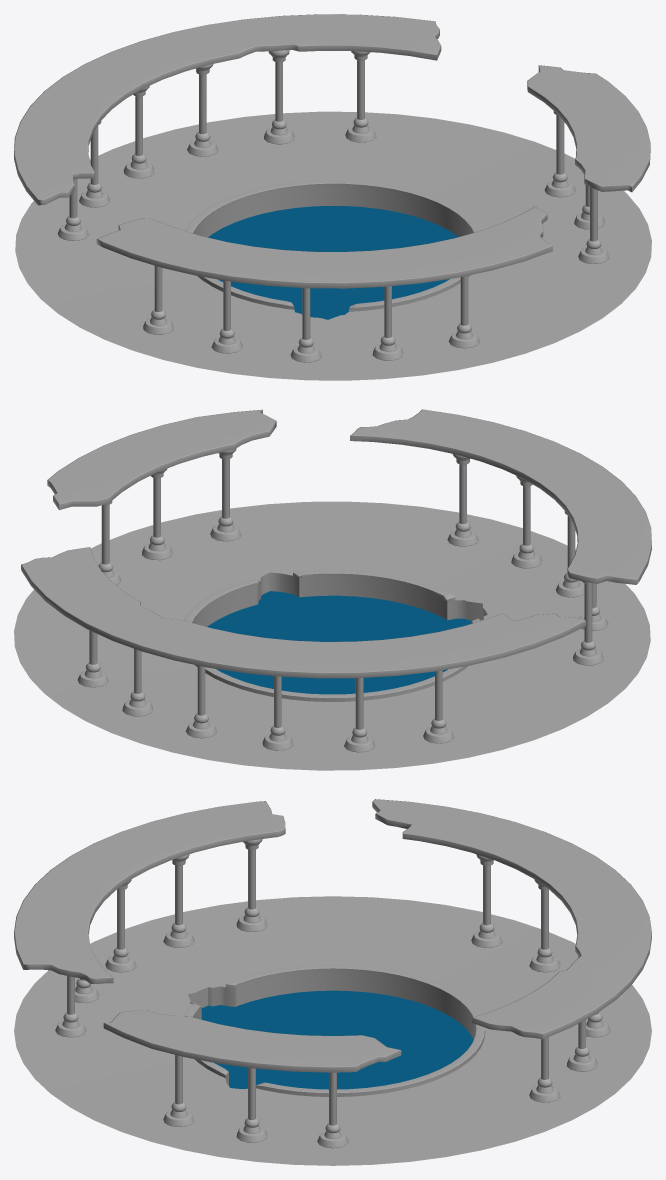
The picture shows the model from 3 angles, top to bottom: view 1: azimuth 30°, elevation 25°; view 2: azimuth 150°, elevation 25°; view 3: azimuth 270°, elevation 25°; orthographic projection.
Visible parts, largest first — view 1: PillarFull_low21; view 2: PillarFull_low21; view 3: PillarFull_low21.
Boxes of the visible parts, x1,y1,x2,y2 form: PillarFull_low21: (14,14,651,380); PillarFull_low21: (14,409,651,770); PillarFull_low21: (14,799,651,1165).
Bounding box in the file's own units: 180 × 36.8 × 180.
